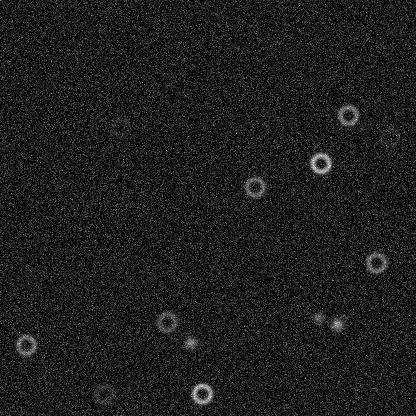Ring: (308, 151, 332, 175), (364, 250, 388, 274), (154, 310, 178, 334), (242, 174, 266, 198), (14, 333, 38, 357), (336, 103, 360, 127), (190, 381, 214, 405), (377, 125, 401, 149), (91, 381, 115, 405), (108, 115, 132, 139)
Spot: (329, 316, 345, 332), (310, 309, 326, 325), (182, 334, 198, 350)
